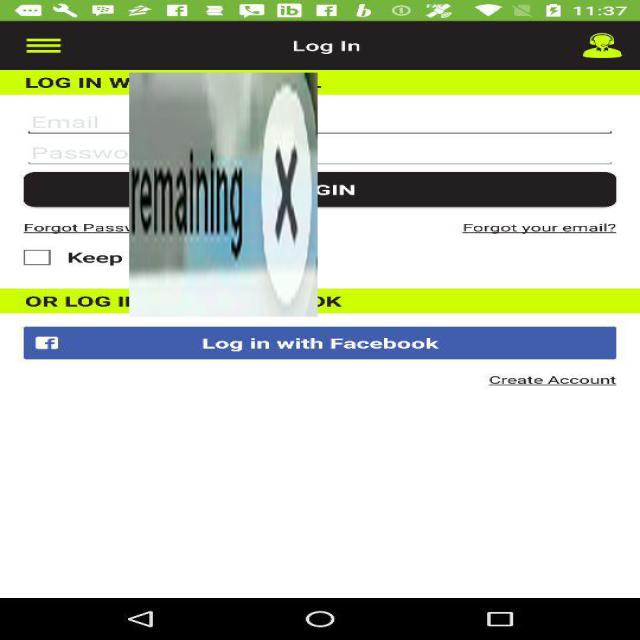misdirection: (129, 72, 318, 316)
